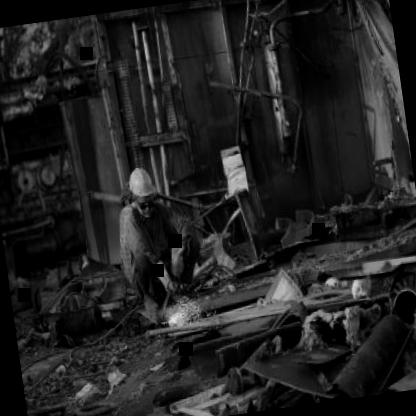helmet: (122, 164, 160, 218)
